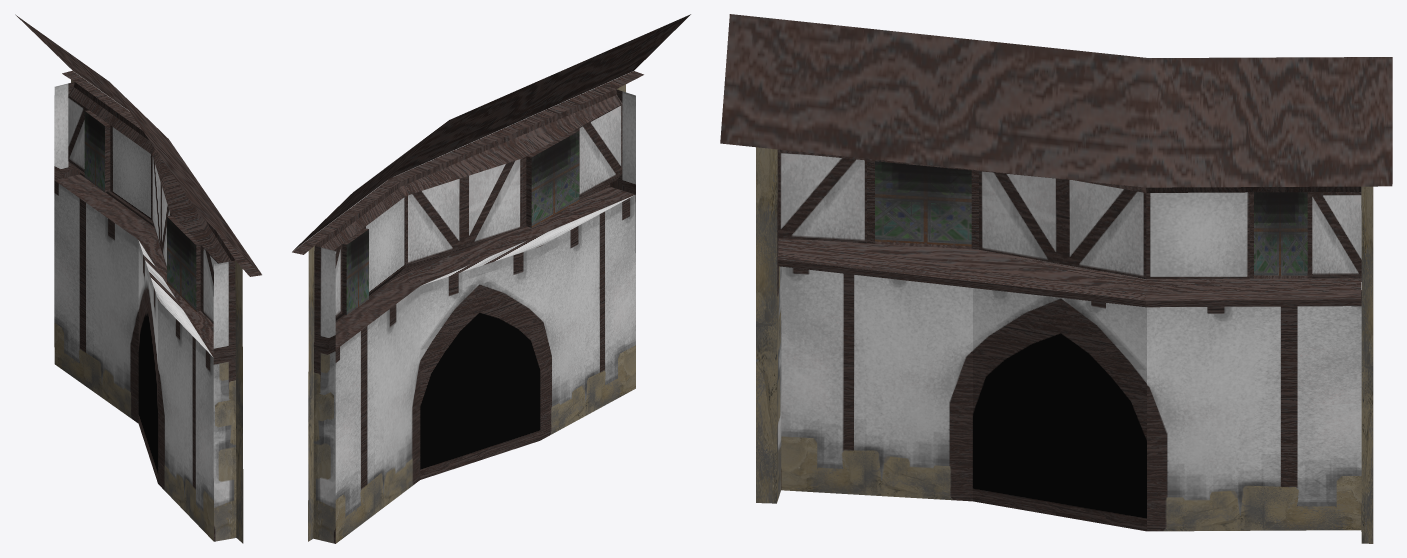
File: COMPModelTrim.fbx
The picture shows the model from 3 angles, left to right: view 1: azimuth 30°, elevation 25°; view 2: azimuth 150°, elevation 25°; view 3: azimuth 270°, elevation 25°; orthographic projection. The views are drawn at different scales.
Parts seen in each view (by area): view 1: Plane.001; view 2: Plane.001; view 3: Plane.001.
Boxes of the visible parts, x1,y1,x2,y2 form: Plane.001: (15, 14, 261, 543); Plane.001: (292, 14, 690, 543); Plane.001: (720, 14, 1392, 543).
Size of the model in its own units: 596 by 1558 by 2086.
